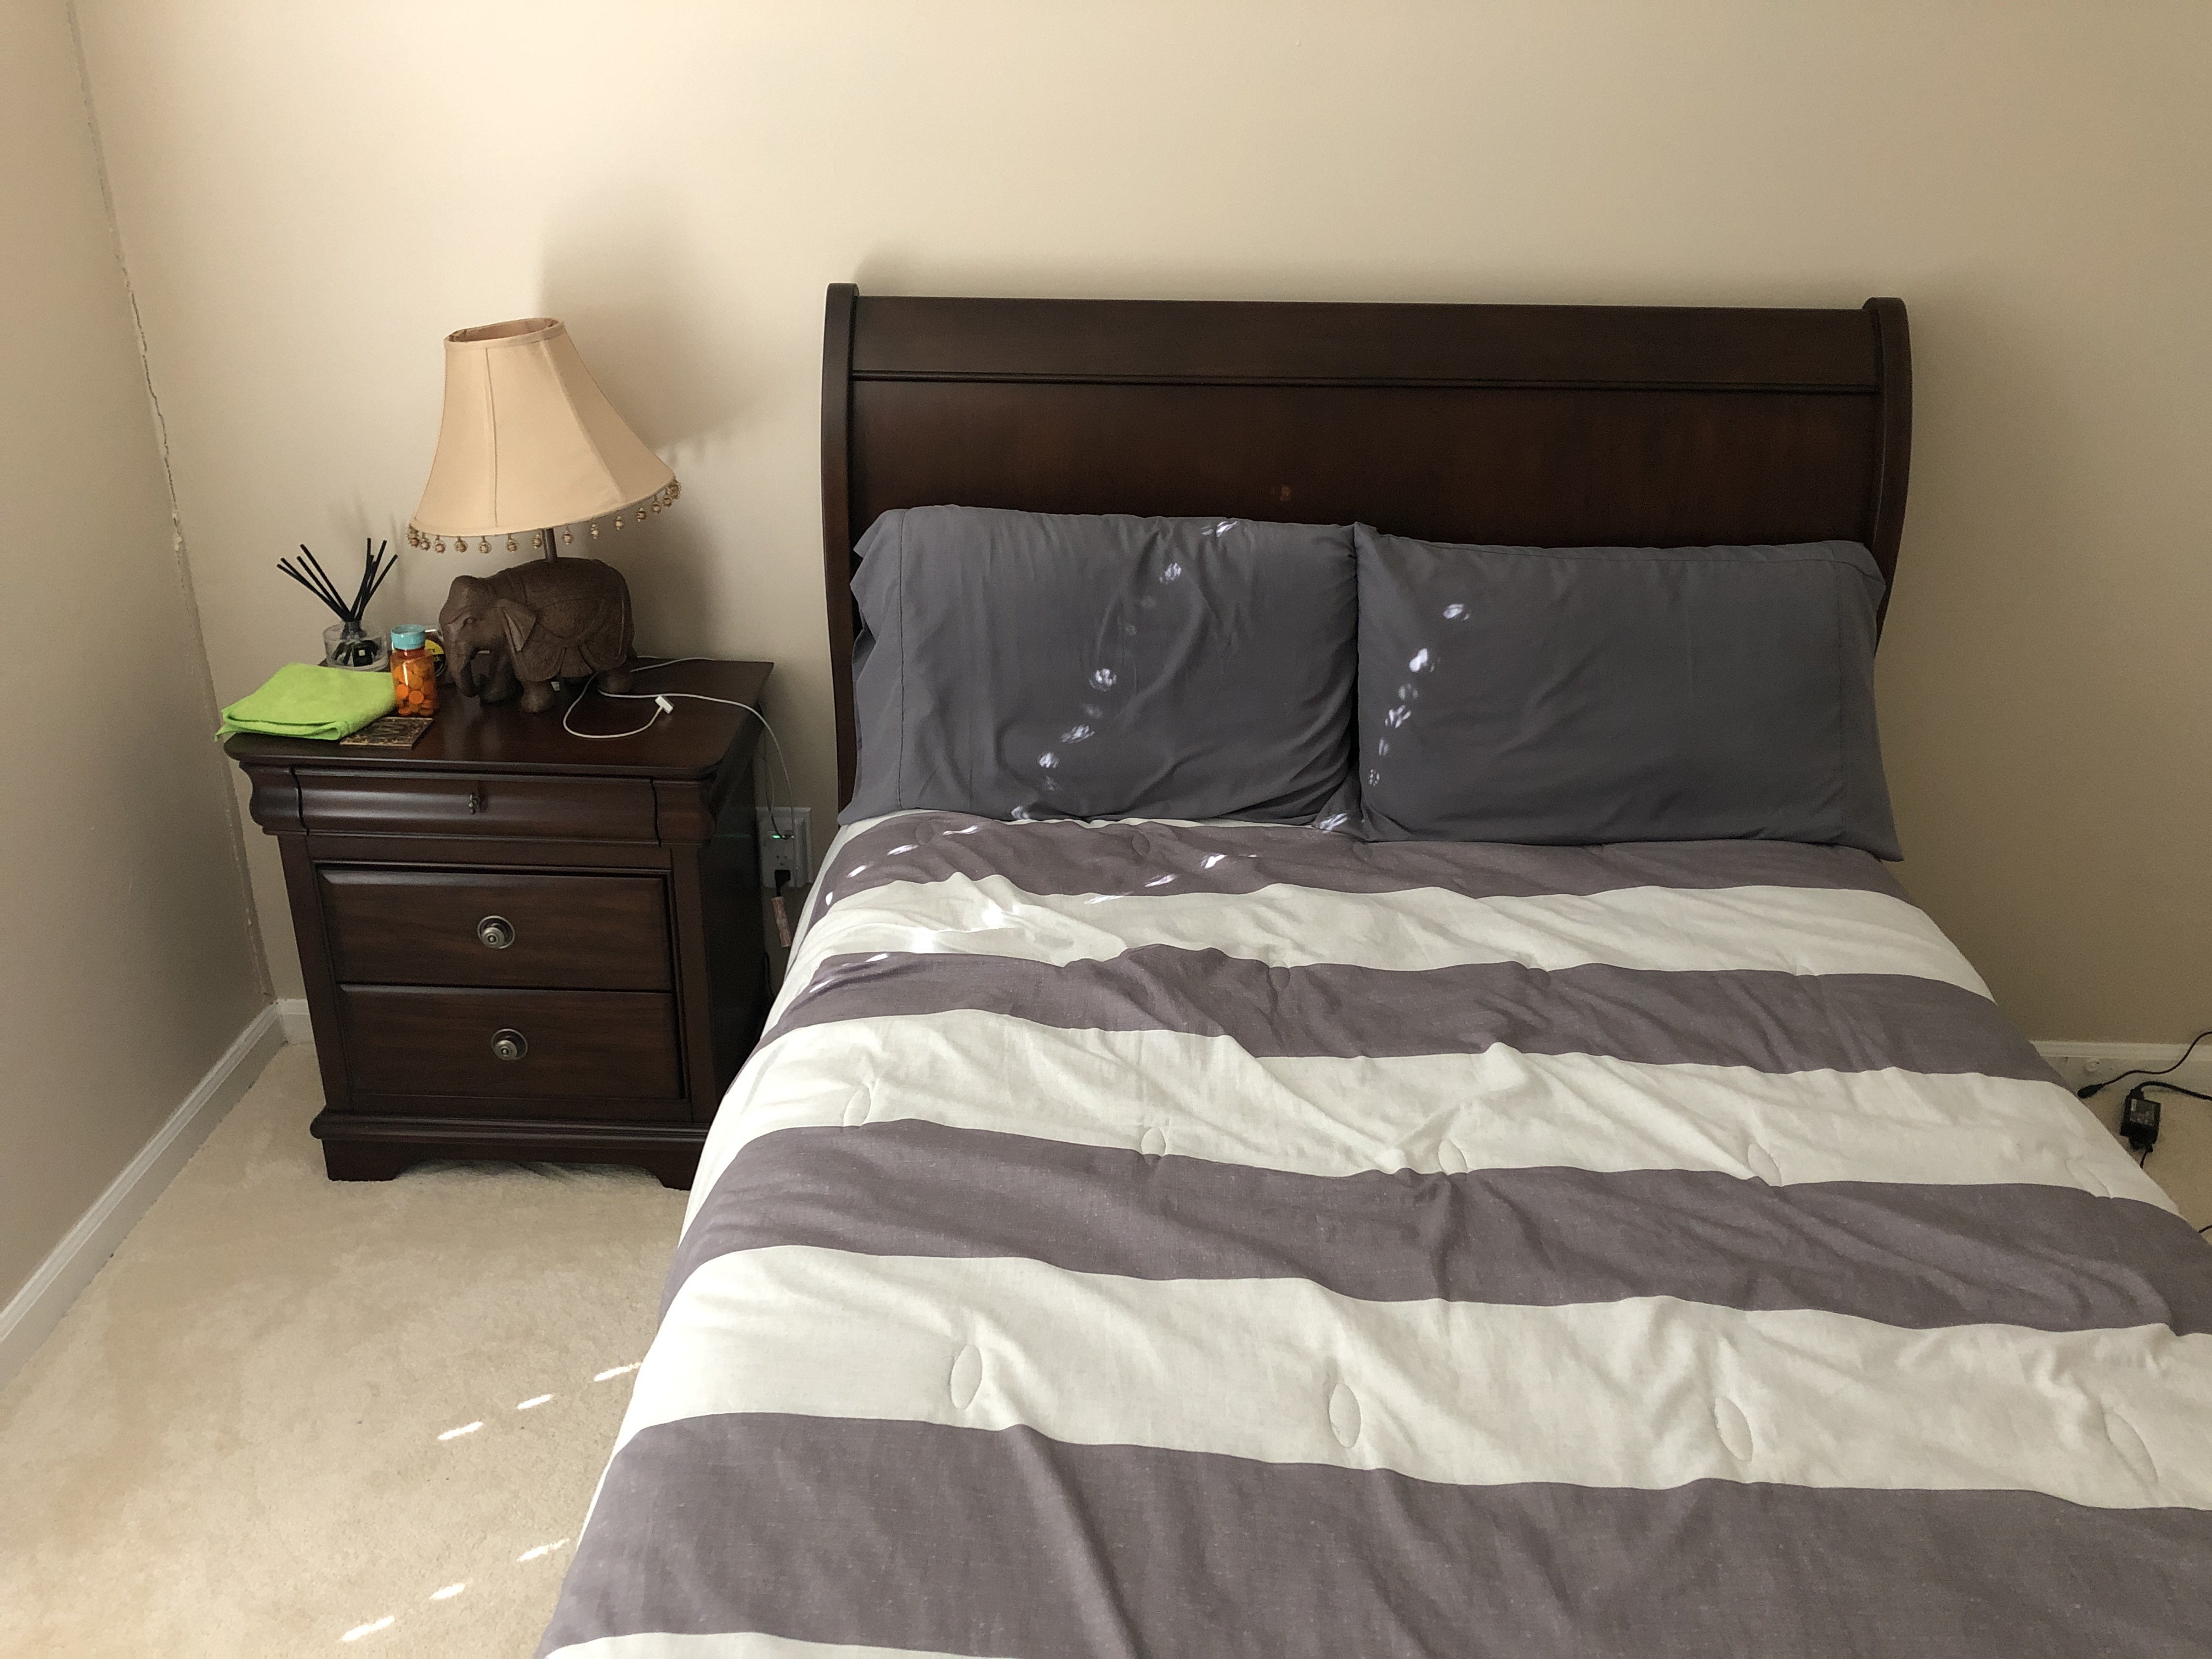bed: (662, 284, 2212, 1659)
lamp: (397, 312, 686, 723)
night stand: (233, 655, 772, 1187)
